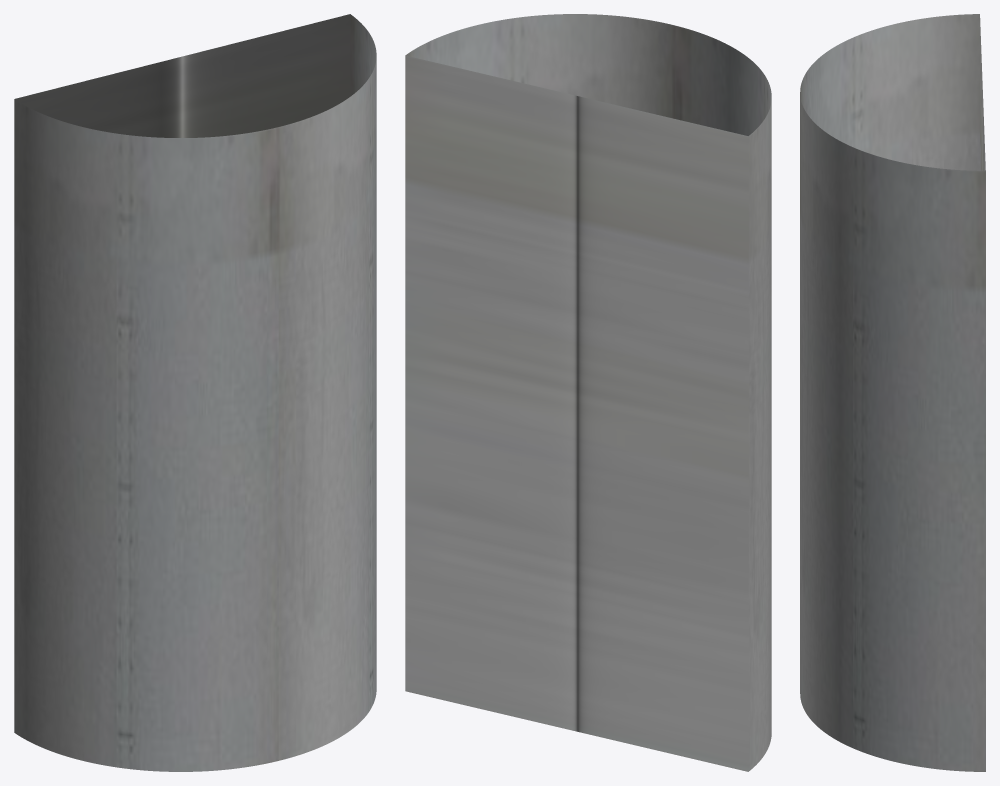
Rendered from payloadBay.obj.
The picture shows the model from 3 angles, left to right: view 1: azimuth 30°, elevation 25°; view 2: azimuth 150°, elevation 25°; view 3: azimuth 270°, elevation 25°; orthographic projection. The views are drawn at different scales.
Size of the model in its own units: 2.8 by 5 by 1.4.
1 material, 1 textured.
